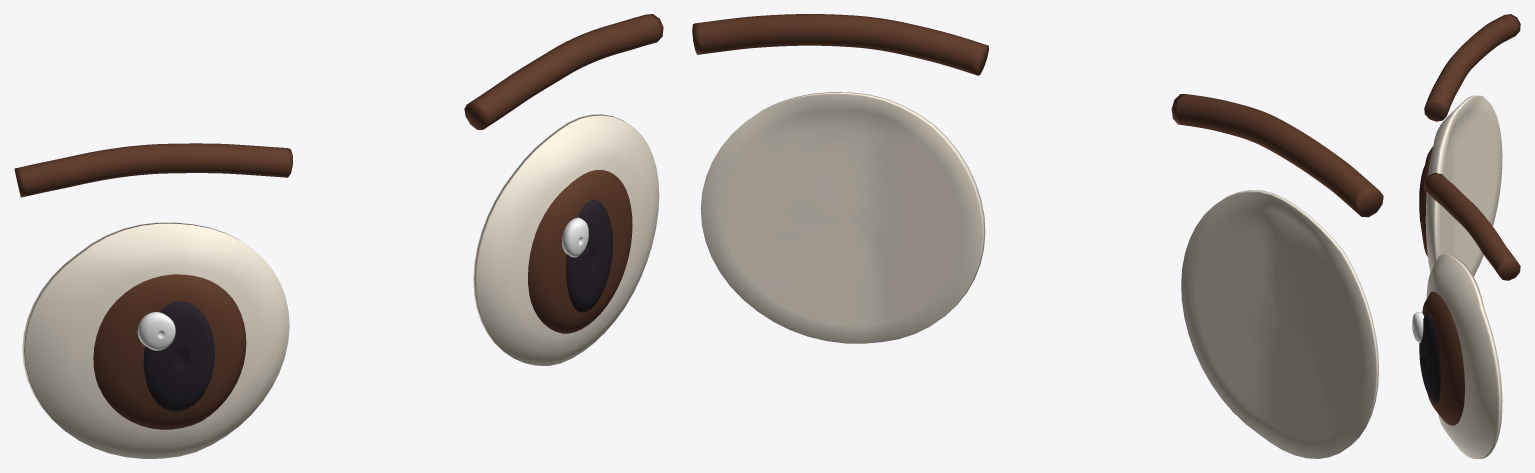
The model's file is 3HT-feminino.glb.
The picture shows the model from 3 angles, left to right: view 1: azimuth 30°, elevation 25°; view 2: azimuth 150°, elevation 25°; view 3: azimuth 270°, elevation 25°; orthographic projection. The views are drawn at different scales.
Visible parts, largest first — view 1: sclera--1, sclera-1, iris--1, iris-1, brow--1, brow-1, pupil--1, pupil-1, highlight--1, highlight-1; view 2: sclera-1, sclera--1, brow-1, brow--1; view 3: sclera--1, sclera-1, brow--1, brow-1, iris-1, pupil-1, iris--1, highlight-1.
Part boxes in pixels (box(x1,y1,x2,y2)): sclera--1: box(22, 222, 289, 458); sclera-1: box(473, 114, 659, 365); iris--1: box(93, 274, 246, 429); iris-1: box(528, 170, 632, 333); brow--1: box(14, 143, 292, 197); brow-1: box(464, 14, 663, 129); pupil--1: box(143, 301, 214, 411); pupil-1: box(566, 200, 612, 312); highlight--1: box(137, 312, 175, 350); highlight-1: box(562, 217, 588, 257); sclera-1: box(700, 92, 985, 343); sclera--1: box(1181, 190, 1378, 458); brow-1: box(692, 14, 988, 75); brow--1: box(1171, 94, 1383, 217); sclera--1: box(1425, 95, 1502, 276); sclera-1: box(1426, 254, 1502, 458); brow--1: box(1424, 14, 1520, 121); brow-1: box(1424, 173, 1520, 280); iris-1: box(1422, 291, 1464, 425); pupil-1: box(1419, 313, 1440, 404); iris--1: box(1420, 146, 1432, 256); highlight-1: box(1412, 312, 1424, 342).
Bounding box in the file's own units: 0.0296 × 0.0135 × 0.00542.
